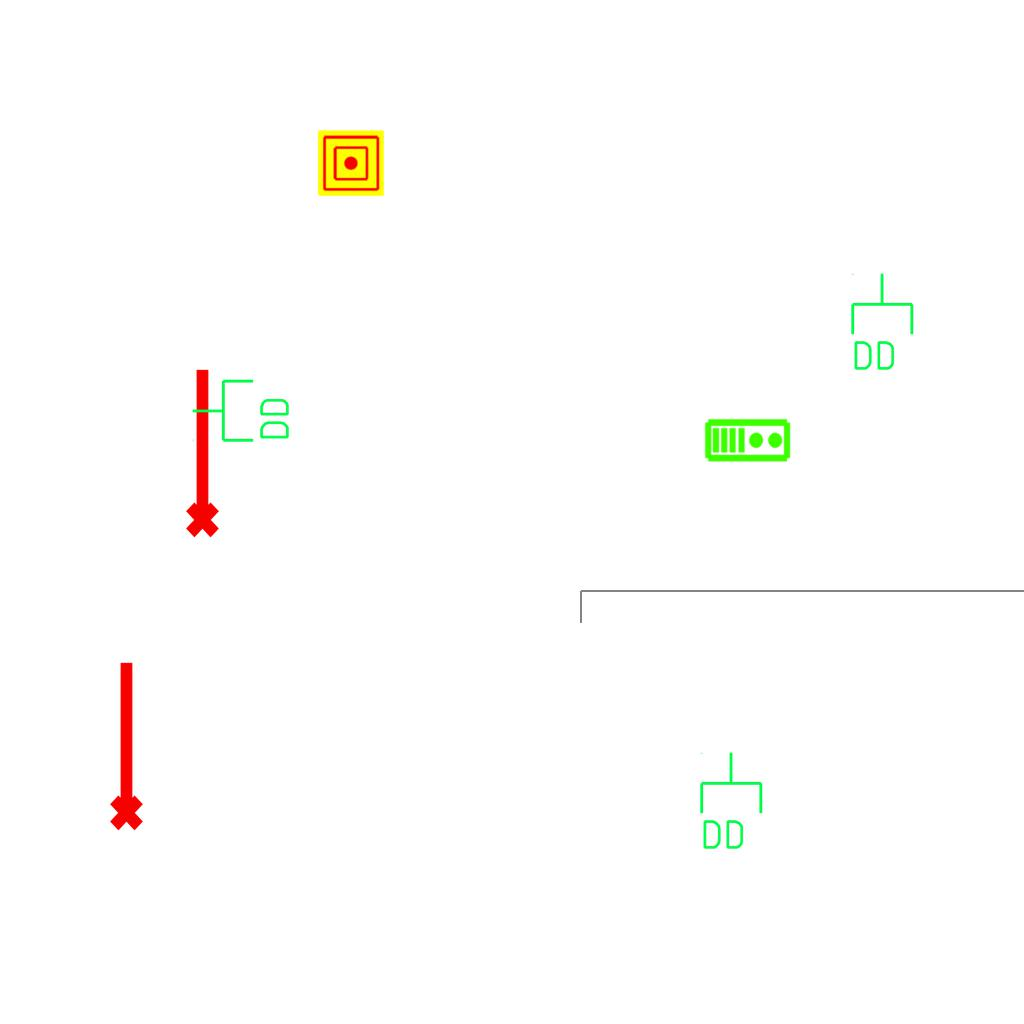ASR_Ansaugoeffnung: (101, 657, 147, 833), (177, 364, 223, 540)
Datenanschluss_zweifach: (847, 271, 916, 374), (696, 750, 765, 853), (190, 377, 293, 446)
Gegensprechanlage_mit_Video: (704, 416, 792, 463)
NAM-Nichtautomatischer_Melder: (318, 130, 384, 196)
